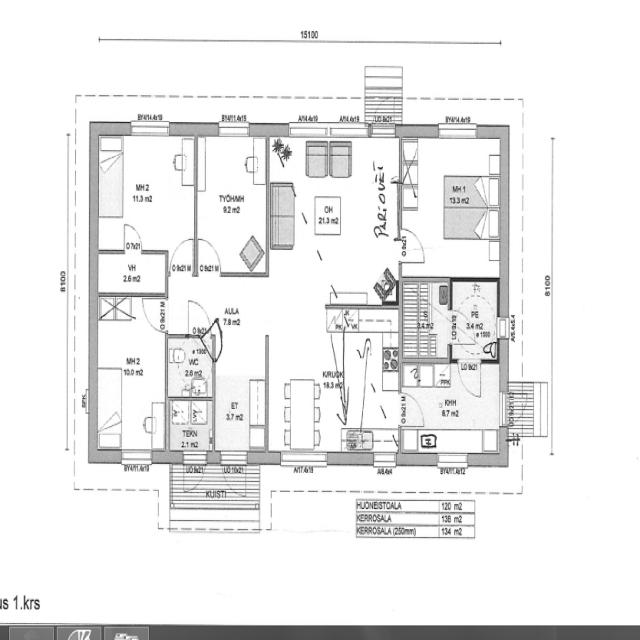door: (457, 357, 493, 406), (451, 307, 484, 357), (134, 295, 174, 336), (217, 452, 251, 498), (500, 383, 539, 423), (394, 388, 429, 432), (178, 453, 212, 496), (184, 301, 217, 344), (170, 228, 198, 276), (197, 232, 226, 278), (375, 97, 394, 139), (122, 220, 140, 253)
window: (280, 117, 372, 140), (269, 452, 331, 478), (430, 118, 482, 143), (127, 114, 177, 138), (431, 452, 476, 477), (213, 115, 254, 140), (118, 446, 151, 469), (370, 450, 396, 474), (500, 314, 511, 344)
zone: (268, 134, 402, 304), (266, 300, 398, 458), (398, 130, 503, 284), (96, 131, 196, 258), (91, 297, 166, 461), (196, 128, 266, 274), (399, 361, 497, 459), (449, 282, 502, 364), (403, 284, 454, 363), (167, 335, 214, 400), (95, 256, 167, 295), (166, 398, 213, 456)
